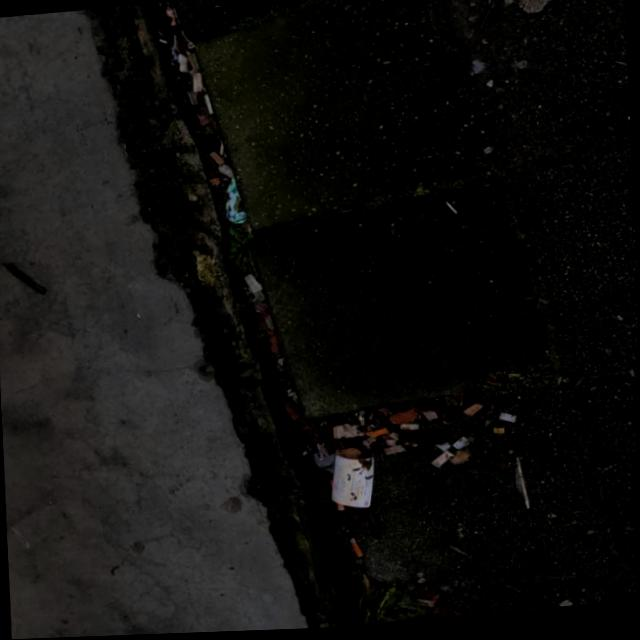Paper: (329, 453, 378, 513)
